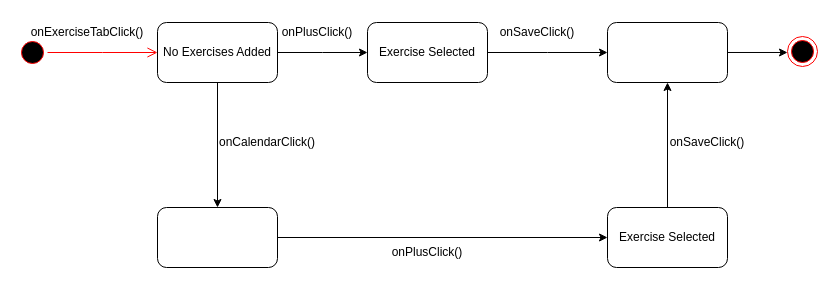
Image size: 835x285. Some labels were removed from this diagram. The centre of each missing label's shape, as x and y in pixels:
Date Selected: point (217, 237)
New Exercise Added: point (667, 52)
